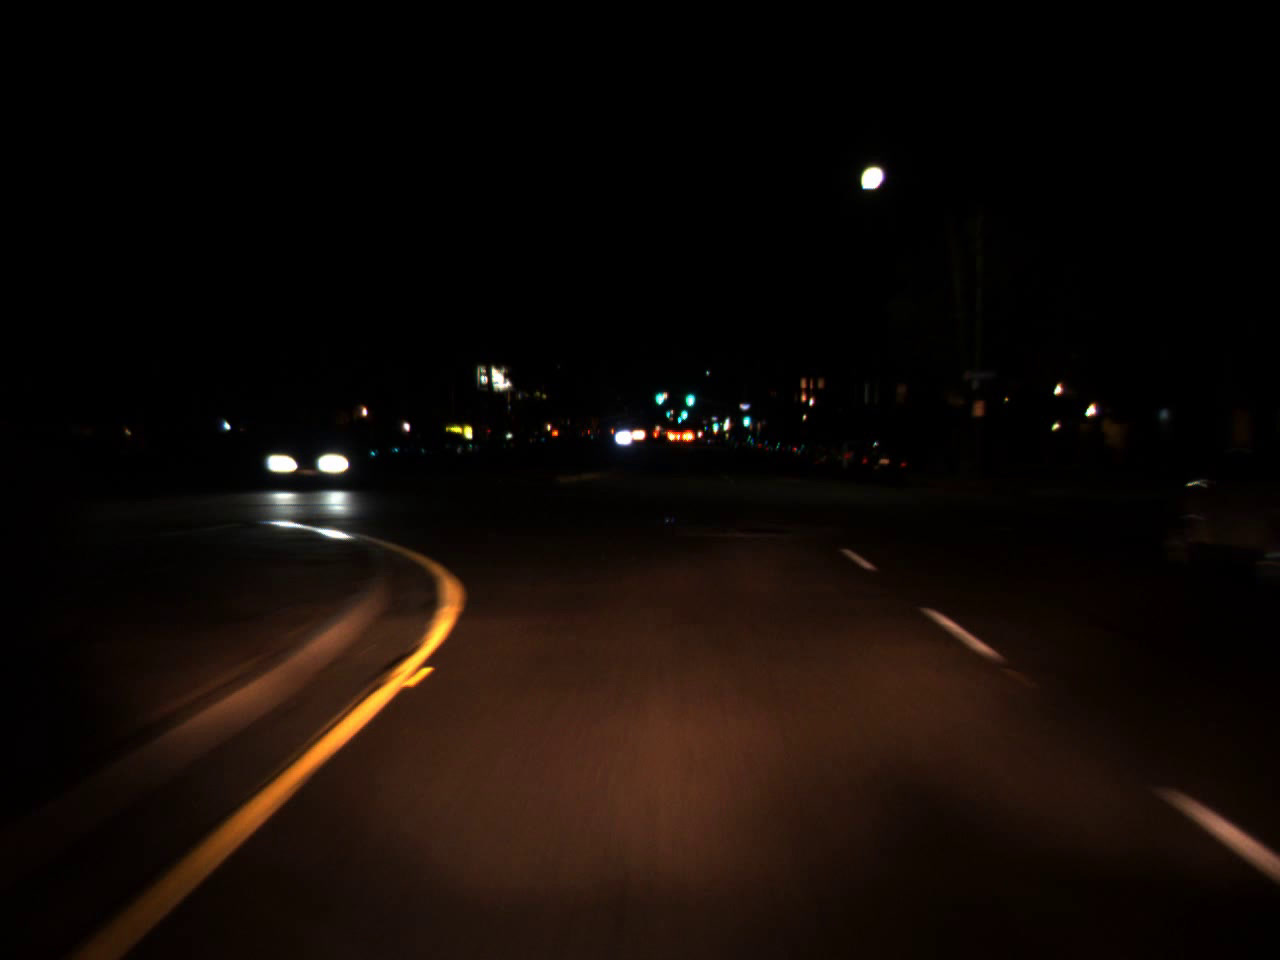go: (683, 382, 695, 409), (653, 379, 663, 409), (741, 406, 750, 430), (678, 401, 688, 422), (710, 416, 719, 431), (675, 409, 682, 424), (664, 406, 671, 418)
